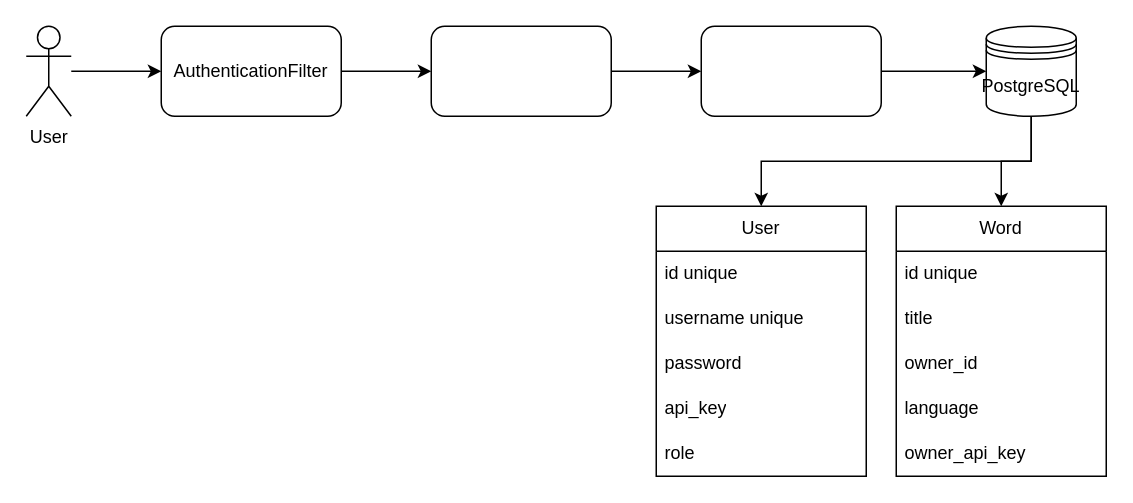
This 1133x503 diagram has some shape labels left out. Each missing label, with the centre of its shape:
"Controller" goes at pixel 520 70.
"Service" goes at pixel 790 70.
